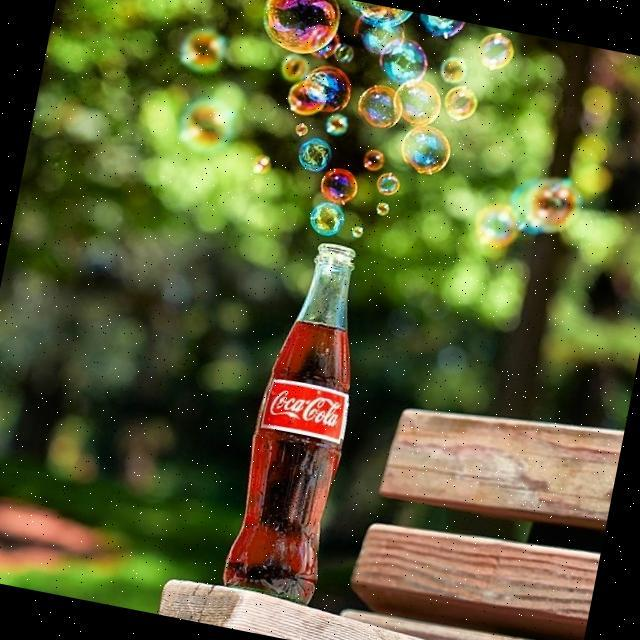coca-cola: (222, 235, 384, 607)
